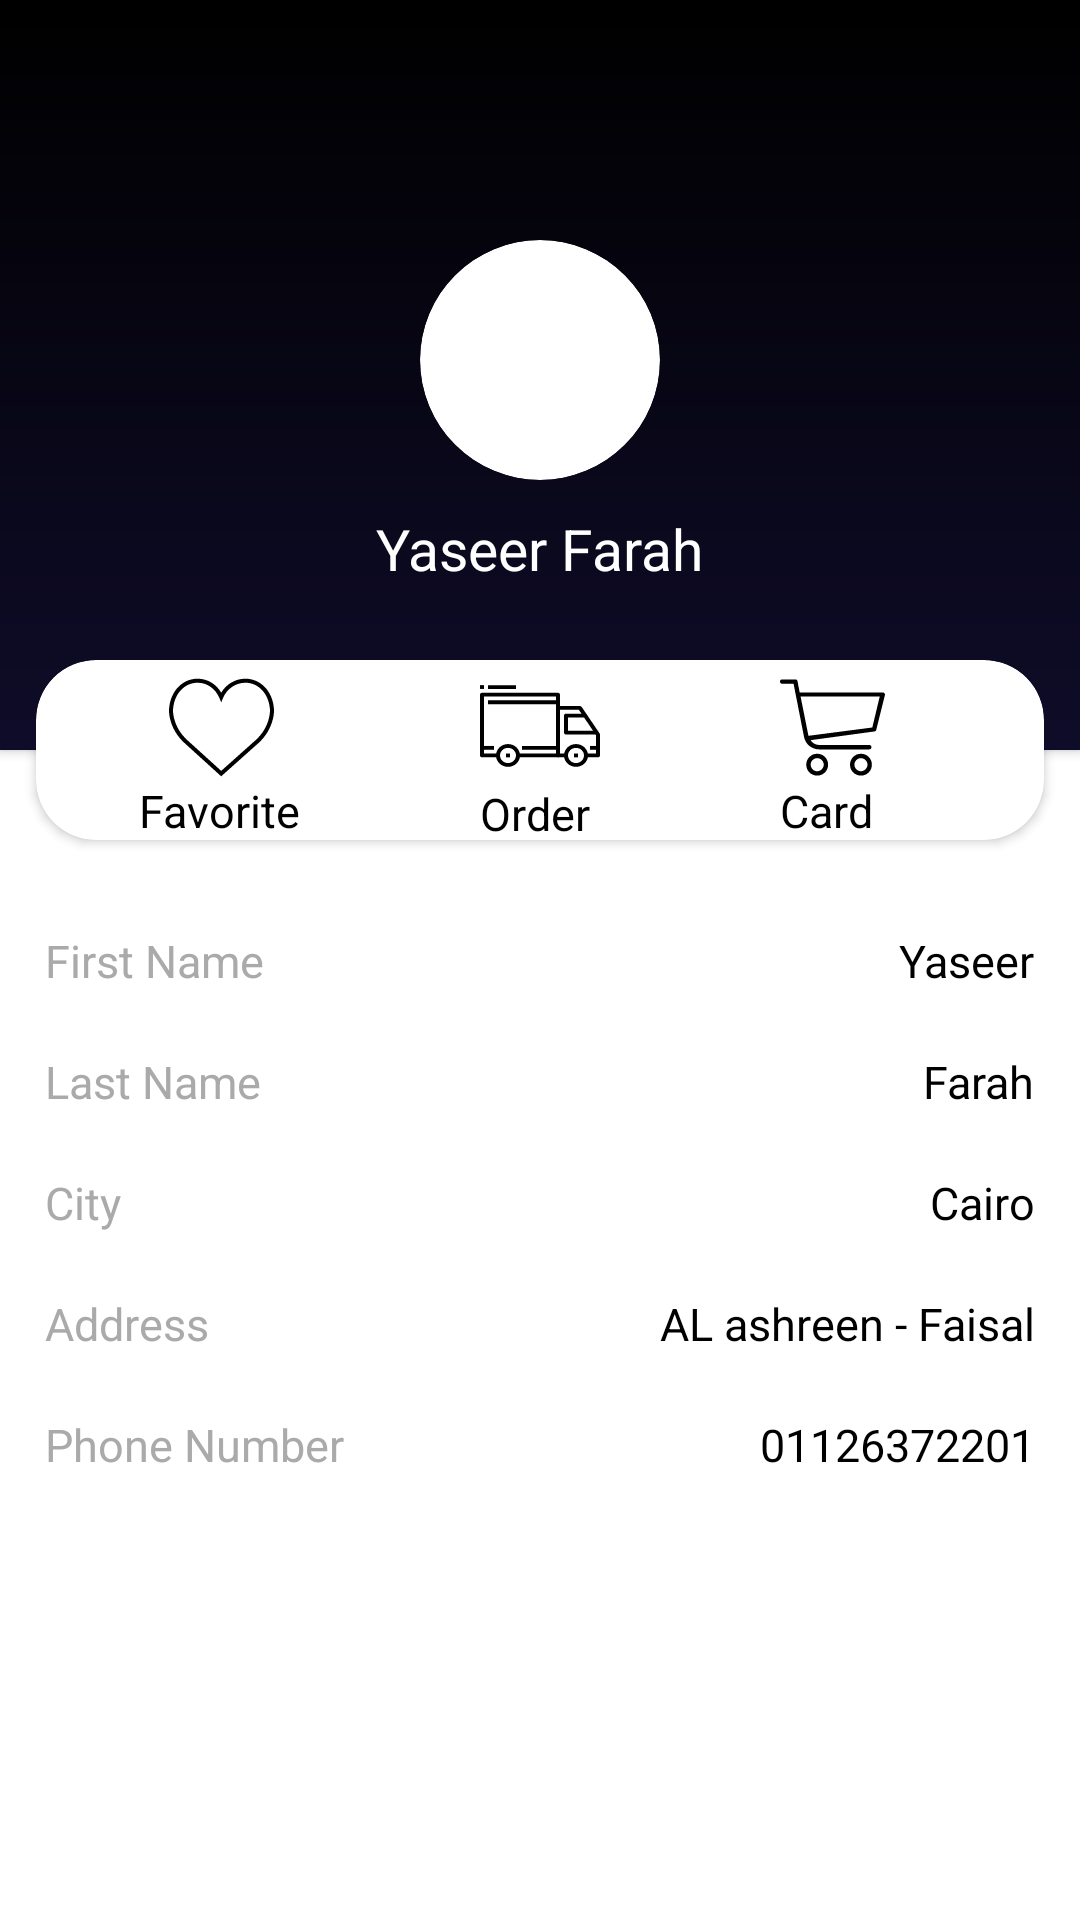

Where icons sit on this 1080px x 1920px app screen, as (x1, y1, x2, y2):
like: (169, 678, 274, 777)
shopping cart: (780, 679, 885, 776)
truck: (480, 685, 600, 767)
